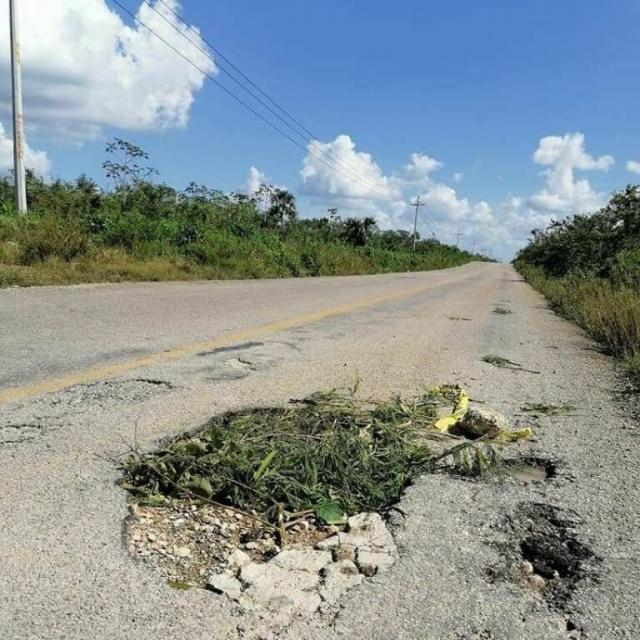Pothole: (83, 332, 564, 638)
